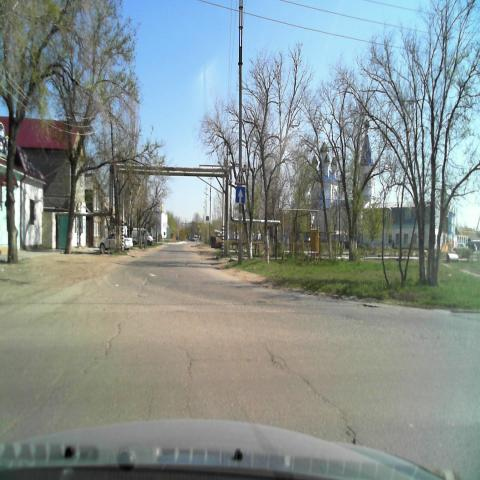1_21: (234, 168, 246, 186)
